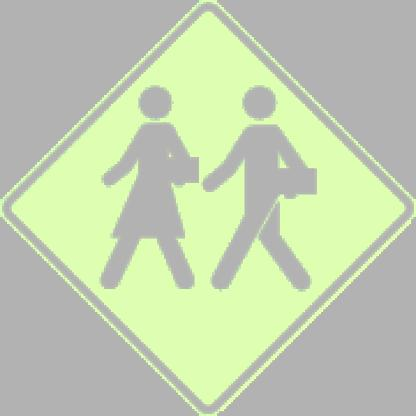Pedestrian Crossing: (13, 18, 392, 381)
